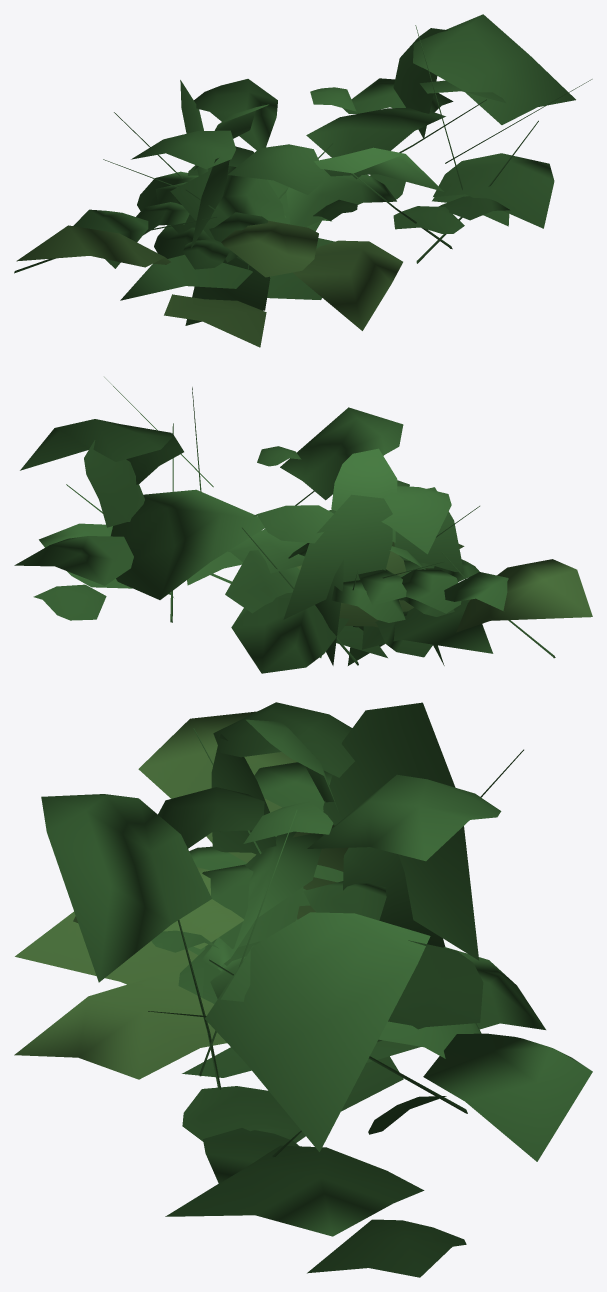
File: forracao_2_longe.glb
3 views of the same model, one above another, from view 1: azimuth 30°, elevation 25°; view 2: azimuth 150°, elevation 25°; view 3: azimuth 270°, elevation 25° (orthographic). The views are drawn at different scales.
Parts seen in each view (by area): view 1: forracao_2_longe; view 2: forracao_2_longe; view 3: forracao_2_longe.
Part boxes in pixels (x1,y1,x2,y2): forracao_2_longe: (14,14,592,347); forracao_2_longe: (14,377,592,673); forracao_2_longe: (14,702,592,1277).
Bounding box in the file's own units: 0.5822 × 0.2386 × 0.3028.
